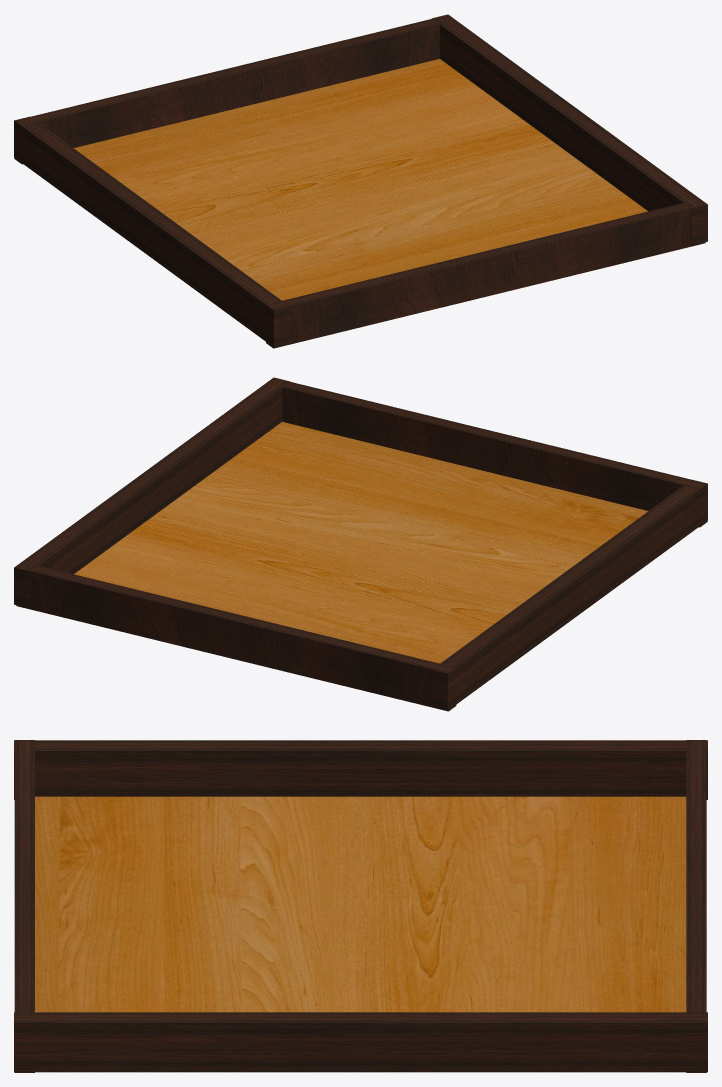
Rendered from board3.obj.
3 renders of one model, top to bottom at view 1: azimuth 30°, elevation 25°; view 2: azimuth 150°, elevation 25°; view 3: azimuth 270°, elevation 25°, orthographic. The views are drawn at different scales.
Parts seen in each view (by area): view 1: Plane, Cube; view 2: Plane, Cube; view 3: Plane, Cube.
Boxes of the visible parts, bbox=[...] form: Plane: bbox=[74, 59, 647, 300]; Cube: bbox=[14, 14, 707, 348]; Plane: bbox=[74, 422, 647, 663]; Cube: bbox=[14, 377, 707, 711]; Plane: bbox=[35, 796, 686, 1012]; Cube: bbox=[14, 740, 707, 1072].
Size of the model in its own units: 14.35 by 1.21 by 14.87.
Materials: 3 (3 with a texture image).
